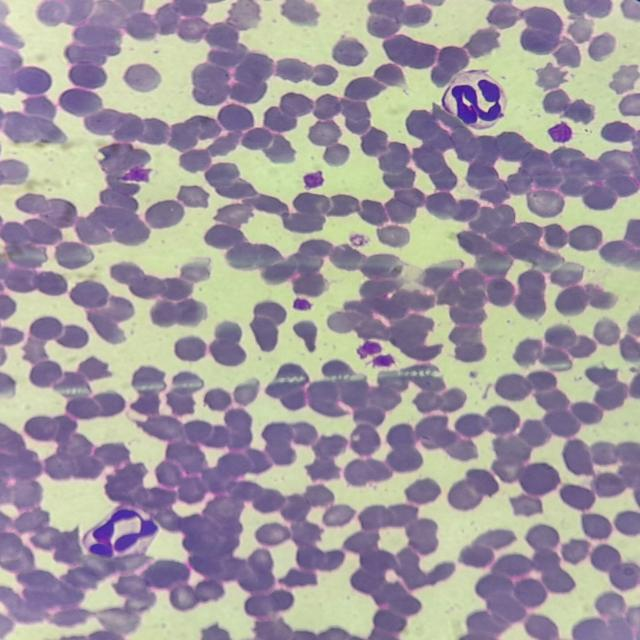Neutrofilo: (81, 504, 162, 559), (442, 69, 509, 129)
